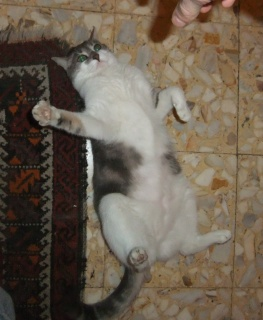Cat: (30, 25, 232, 319)
